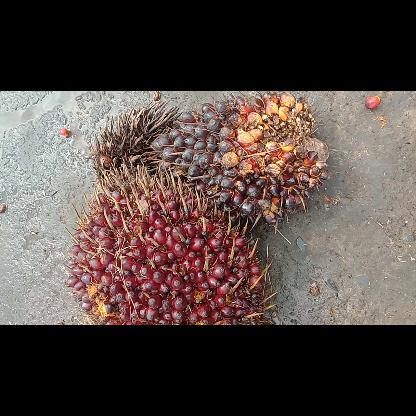Janjang kosong: (90, 100, 182, 186)
TBS masak: (66, 158, 278, 324)
TBS mentah: (153, 90, 330, 233)
